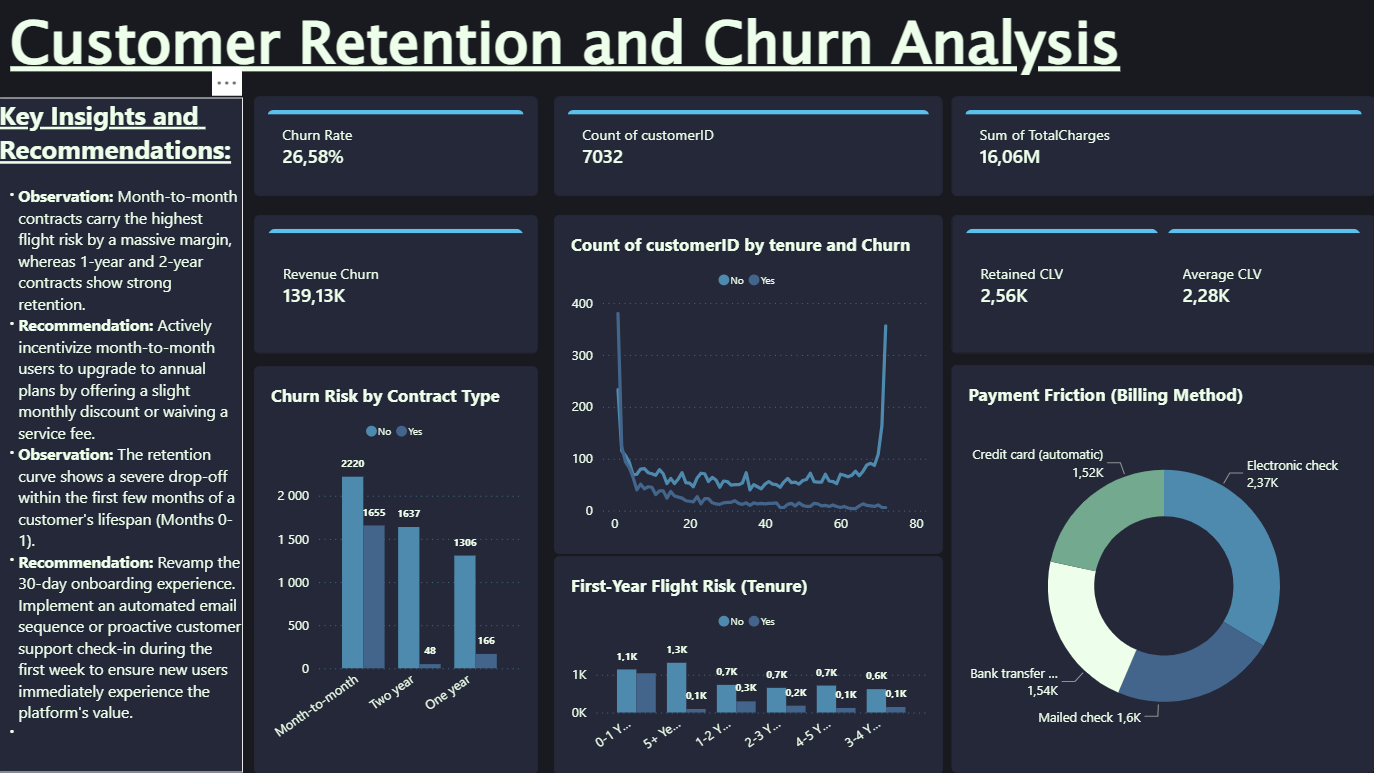

The dashboard page shown, as its layout file describes it:
{"tool":"powerbi","page":{"name":"Page 1","canvas":[1280,720],"ordinal":0},"visuals":[{"type":"cardVisual","fields":{"Data":["cleaned_telco_churn.Churn Rate"]},"box":[237.2,89.5,264,93],"z":0},{"type":"cardVisual","fields":{"Data":["Sum(cleaned_telco_churn.TotalCharges)"]},"box":[886,89.5,394.2,93],"z":1000},{"type":"cardVisual","fields":{"Data":["Count(cleaned_telco_churn.customerID)"]},"box":[516.3,89.5,361.6,93],"z":2000},{"type":"clusteredColumnChart","title":"Churn Risk by Contract Type","fields":{"Category":["cleaned_telco_churn.Contract"],"Y":["CountNonNull(cleaned_telco_churn.customerID)"],"Series":["cleaned_telco_churn.Churn"]},"box":[237.2,340.7,264,379.1],"z":3000},{"type":"clusteredColumnChart","title":"First-Year Flight Risk (Tenure)","fields":{"Category":["cleaned_telco_churn.Tenure_Group"],"Y":["CountNonNull(cleaned_telco_churn.customerID)"],"Series":["cleaned_telco_churn.Churn"]},"box":[516.3,517.4,361.6,203.5],"z":4000},{"type":"donutChart","title":"Payment Friction (Billing Method)","fields":{"Category":["cleaned_telco_churn.PaymentMethod"],"Y":["CountNonNull(cleaned_telco_churn.customerID)"]},"box":[886,339.5,394.2,379.1],"z":5000},{"type":"textbox","box":[10,0,1051.9,89.8],"z":6000},{"type":"cardVisual","fields":{"Data":["cleaned_telco_churn.Revenue Churn"]},"box":[237.2,200,264,129.1],"z":7000},{"type":"cardVisual","fields":{"Data":["cleaned_telco_churn.Retained CLV","cleaned_telco_churn.Average CLV"]},"box":[886,200,394.2,129.1],"z":8000},{"type":"lineChart","fields":{"Category":["cleaned_telco_churn.tenure"],"Y":["CountNonNull(cleaned_telco_churn.customerID)"],"Series":["cleaned_telco_churn.Churn"]},"box":[516.3,200,361.6,315.1],"z":8001},{"type":"shape","box":[0,90.7,226.7,629.1],"z":8002},{"type":"textbox","box":[0,90.7,226.7,627.9],"z":8003}]}

Visuals, with their boxes in screenshot pixels (x1, y1, x2, y2), scaled from the page's 1280x720 canvas onto the 1374x773 screenshot:
cardVisual - cleaned_telco_churn.Churn Rate: {"left": 255, "top": 96, "right": 538, "bottom": 196}
cardVisual - Sum(cleaned_telco_churn.TotalCharges): {"left": 951, "top": 96, "right": 1373, "bottom": 196}
cardVisual - Count(cleaned_telco_churn.customerID): {"left": 554, "top": 96, "right": 942, "bottom": 196}
"Churn Risk by Contract Type" clusteredColumnChart: {"left": 255, "top": 366, "right": 538, "bottom": 772}
"First-Year Flight Risk (Tenure)" clusteredColumnChart: {"left": 554, "top": 555, "right": 942, "bottom": 772}
"Payment Friction (Billing Method)" donutChart: {"left": 951, "top": 364, "right": 1373, "bottom": 771}
textbox: {"left": 11, "top": 0, "right": 1140, "bottom": 96}
cardVisual - cleaned_telco_churn.Revenue Churn: {"left": 255, "top": 215, "right": 538, "bottom": 353}
cardVisual - cleaned_telco_churn.Retained CLV x cleaned_telco_churn.Average CLV: {"left": 951, "top": 215, "right": 1373, "bottom": 353}
lineChart - cleaned_telco_churn.tenure x CountNonNull(cleaned_telco_churn.customerID): {"left": 554, "top": 215, "right": 942, "bottom": 553}
shape: {"left": 0, "top": 97, "right": 243, "bottom": 772}
textbox: {"left": 0, "top": 97, "right": 243, "bottom": 771}
